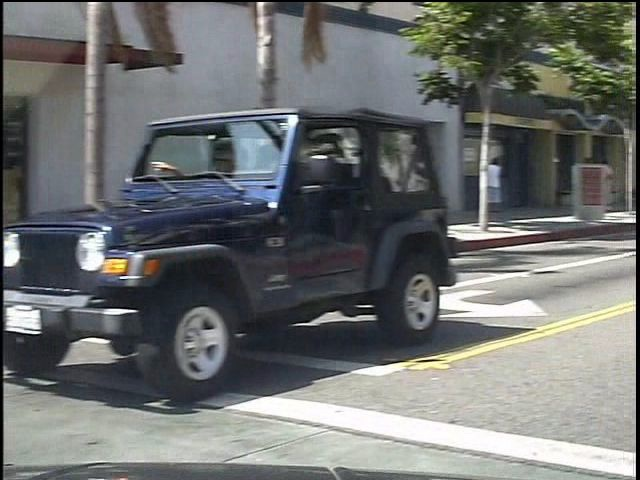person: (500, 148, 524, 231)
